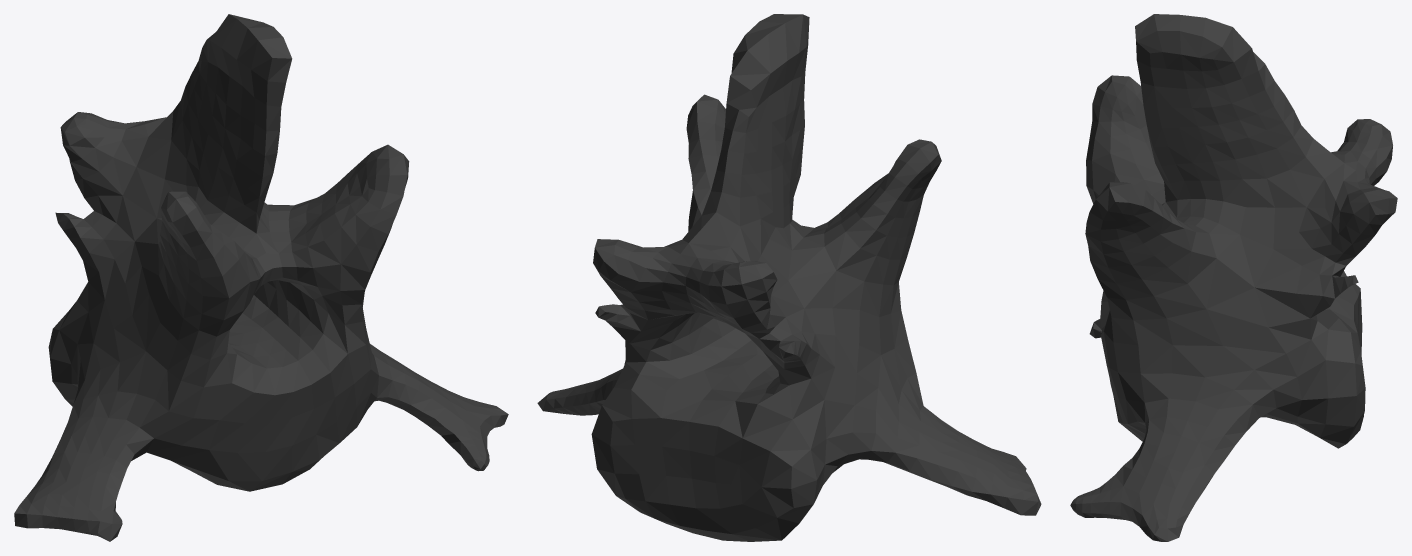
The picture shows the model from 3 angles, left to right: view 1: azimuth 30°, elevation 25°; view 2: azimuth 150°, elevation 25°; view 3: azimuth 270°, elevation 25°; orthographic projection. The views are drawn at different scales.
Parts seen in each view (by area): view 1: L2; view 2: L2; view 3: L2.
Boxes of the visible parts, x1,y1,x2,y2 form: L2: (14, 14, 508, 541); L2: (537, 14, 1041, 541); L2: (1070, 14, 1397, 541).
Size of the model in its own units: 3.46 by 3.01 by 2.13.
1 material, 1 textured.
